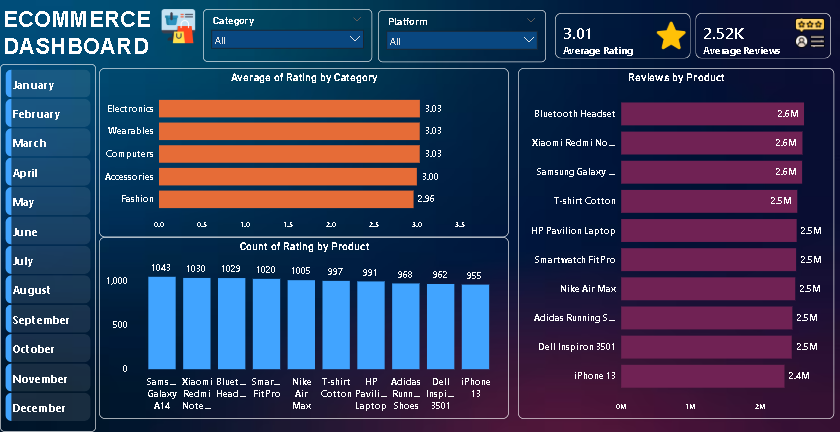

Layout of this report page (visuals, bound fields, positions):
{"tool":"powerbi","page":{"name":" Customer & Rating Dashboard","canvas":[1400,720],"ordinal":1},"visuals":[{"type":"advancedSlicerVisual","fields":{"Values":["Custom_Calendar.Date.Variation.Date Hierarchy.Month"]},"box":[0,106.7,160,613.3],"z":0},{"type":"cardVisual","fields":{"Data":["Avg(ecommerce_data.Rating)","Avg(ecommerce_data.Reviews)"]},"box":[910,6.7,490,106.7],"z":1000},{"type":"image","box":[1081.7,35,73.3,48.3],"z":2000},{"type":"textbox","box":[0,5,330,101.7],"z":3000},{"type":"slicer","fields":{"Values":["ecommerce_data.Category"]},"box":[338.3,15,281.7,88.3],"z":4000},{"type":"image","box":[243.3,15,108.3,56.7],"z":5000},{"type":"barChart","fields":{"Y":["Avg(ecommerce_data.Rating)"],"Category":["ecommerce_data.Category"]},"box":[165,113.3,683.3,281.7],"z":6000},{"type":"columnChart","fields":{"Category":["ecommerce_data.Product"],"Y":["CountNonNull(ecommerce_data.Rating)"]},"box":[165,395,683.3,303.3],"z":7000},{"type":"slicer","fields":{"Values":["ecommerce_data.Platform"]},"box":[630,16.7,280,86.7],"z":8000},{"type":"image","box":[1310,30,80,50],"z":9000},{"type":"barChart","fields":{"Y":["Sum(ecommerce_data.Reviews)"],"Category":["ecommerce_data.Product"]},"box":[863.3,113.3,526.7,585],"z":10000}]}

Visuals, with their boxes in screenshot pixels (x1, y1, x2, y2), scaled from the page's 1400x720 canvas onto the 840x432 screenshot:
advancedSlicerVisual - Custom_Calendar.Date.Variation.Date Hierarchy.Month: [0, 64, 96, 431]
cardVisual - Avg(ecommerce_data.Rating) x Avg(ecommerce_data.Reviews): [546, 4, 839, 68]
image: [649, 21, 693, 50]
textbox: [0, 3, 198, 64]
slicer - ecommerce_data.Category: [203, 9, 372, 62]
image: [146, 9, 211, 43]
barChart - Avg(ecommerce_data.Rating) x ecommerce_data.Category: [99, 68, 509, 237]
columnChart - ecommerce_data.Product x CountNonNull(ecommerce_data.Rating): [99, 237, 509, 419]
slicer - ecommerce_data.Platform: [378, 10, 546, 62]
image: [786, 18, 834, 48]
barChart - Sum(ecommerce_data.Reviews) x ecommerce_data.Product: [518, 68, 834, 419]
